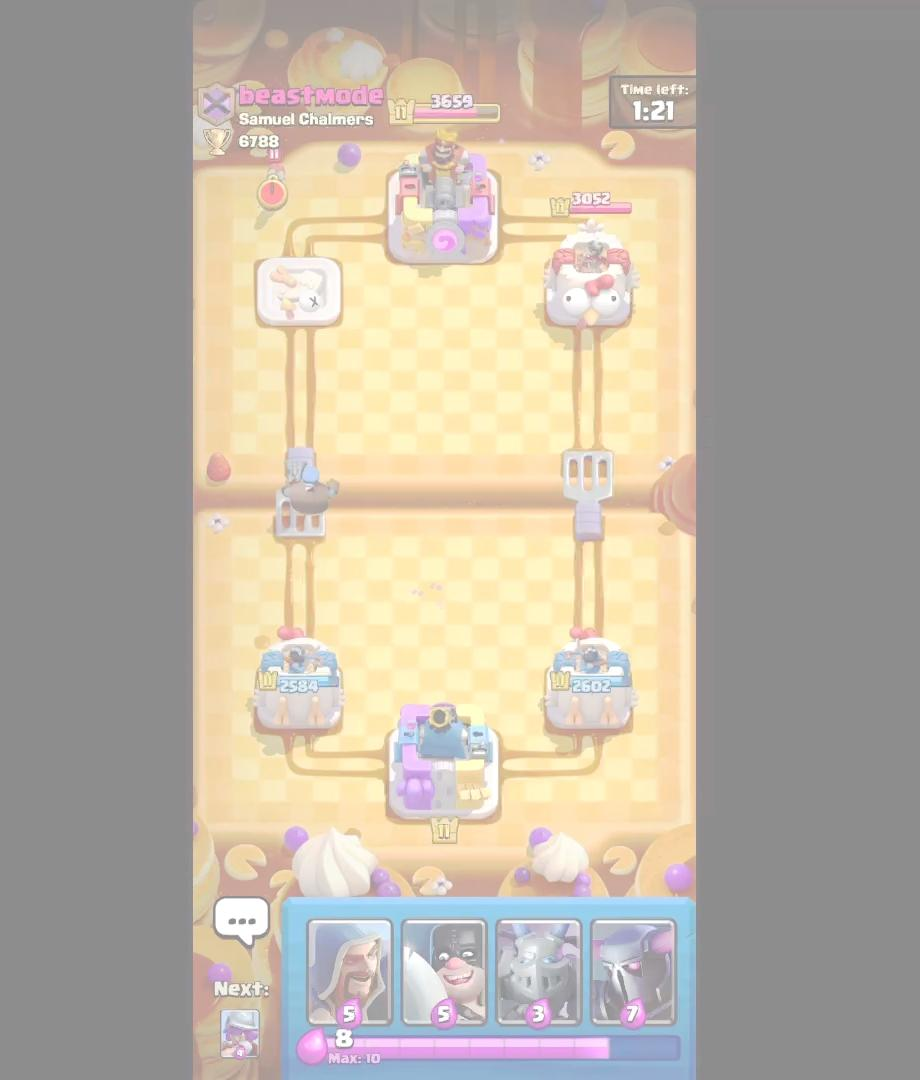Bomber: (254, 143, 300, 207)
